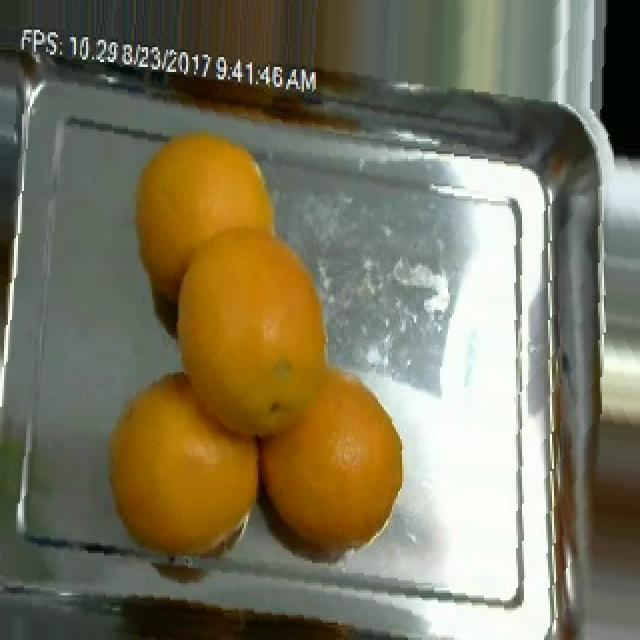Fruit: (116, 114, 296, 315)
